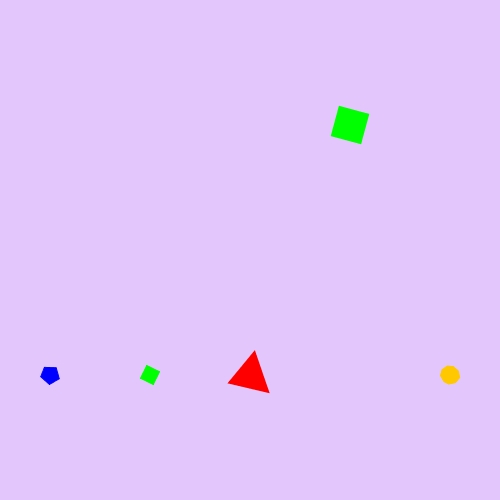nonagon: (436, 361, 465, 389)
pentagon: (36, 361, 64, 389)
quadrilateral: (325, 100, 376, 151), (135, 360, 165, 390)
triangle: (227, 351, 273, 399)
